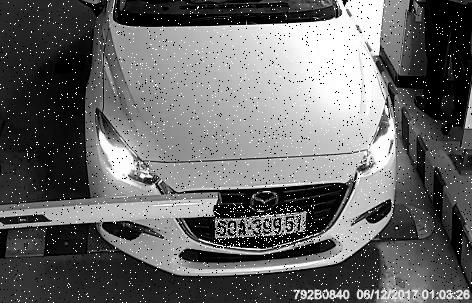License-plate: (215, 206, 317, 249)
